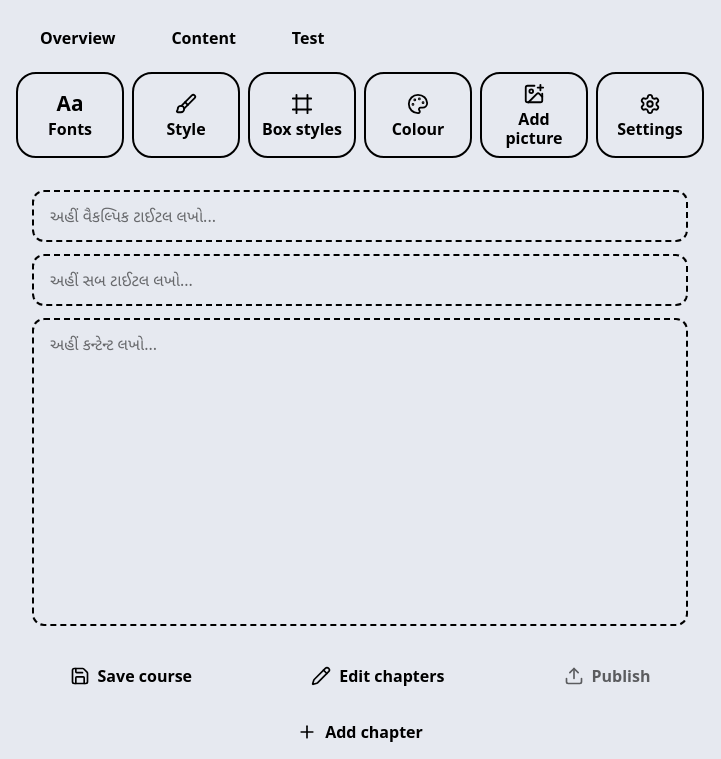
it: CourseWorkspace: what it shows › the Content part shows the first chapter in the three boxes
Click the button "Content" at (204, 38), box [147,16,260,60]
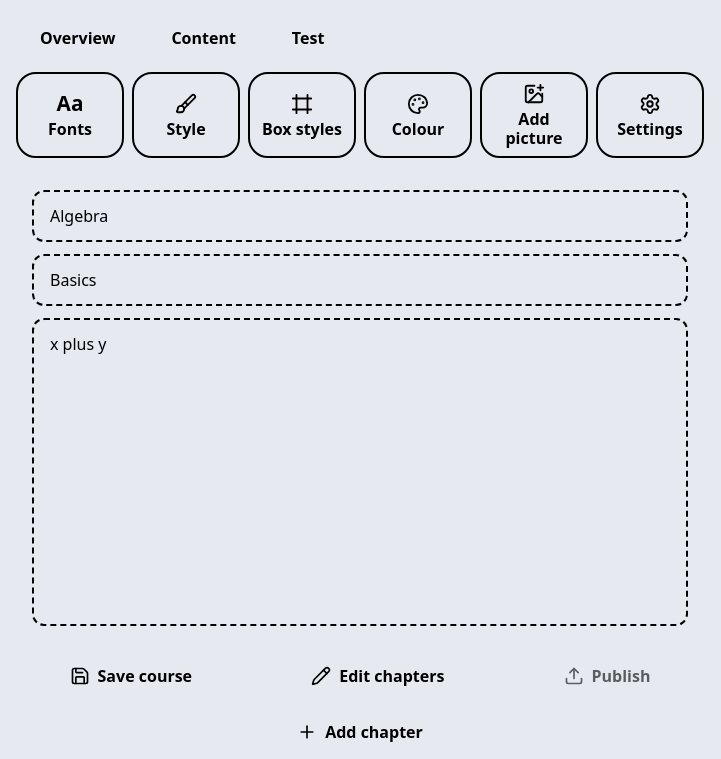
Expected: the field named "Chapter title (optional)" reads "Algebra", [32,190,688,242]
Expected: the field named "Chapter subtitle" reads "Basics", [32,254,688,306]
Expected: the field named "Chapter content" reads "x plus y", [32,318,688,626]
